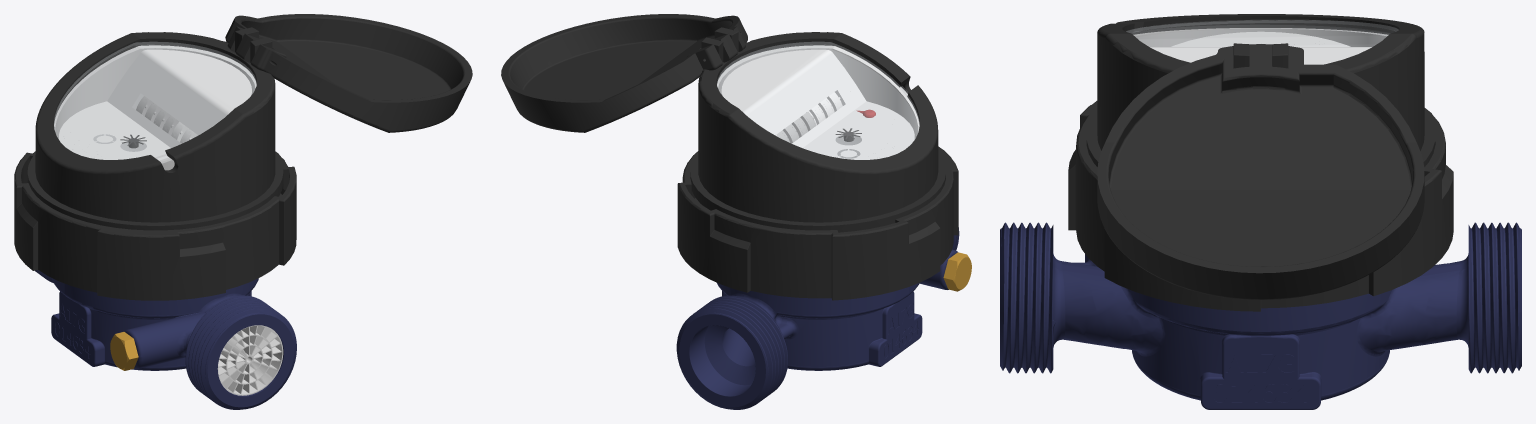
File: hidrometro-saga.glb
The picture shows the model from 3 angles, left to right: view 1: azimuth 30°, elevation 25°; view 2: azimuth 150°, elevation 25°; view 3: azimuth 270°, elevation 25°; orthographic projection. The views are drawn at different scales.
Visible parts, largest first — view 1: Topo do Hidrometro, Tampa, Espelho, SOLID, Adesivo, Corpo interno, Filtro de impurezas, M6x 1; view 2: Topo do Hidrometro, SOLID, Tampa, Espelho, Adesivo, Corpo interno, M6x 1; view 3: Tampa, SOLID, Topo do Hidrometro, Espelho, Adesivo, Corpo interno.
Boxes of the visible parts, left/top/right/bottom form: Topo do Hidrometro: left=14, top=27, right=296, bottom=300; Tampa: left=225, top=14, right=472, bottom=132; Espelho: left=54, top=42, right=256, bottom=163; SOLID: left=35, top=270, right=296, bottom=409; Adesivo: left=59, top=49, right=251, bottom=160; Corpo interno: left=54, top=45, right=256, bottom=170; Filtro de impurezas: left=217, top=325, right=283, bottom=395; M6x 1: left=110, top=332, right=138, bottom=370; Topo do Hidrometro: left=677, top=27, right=958, bottom=300; SOLID: left=676, top=227, right=959, bottom=409; Tampa: left=501, top=14, right=747, bottom=132; Espelho: left=717, top=42, right=919, bottom=159; Adesivo: left=721, top=49, right=914, bottom=159; Corpo interno: left=717, top=45, right=919, bottom=158; M6x 1: left=943, top=252, right=971, bottom=291; Tampa: left=1097, top=44, right=1424, bottom=299; SOLID: left=1000, top=222, right=1521, bottom=409; Topo do Hidrometro: left=1068, top=14, right=1453, bottom=311; Espelho: left=1126, top=20, right=1398, bottom=63; Adesivo: left=1150, top=31, right=1371, bottom=64; Corpo interno: left=1133, top=28, right=1388, bottom=46.
Bounding box in the file's own units: 2.95 × 1.9 × 2.3.
